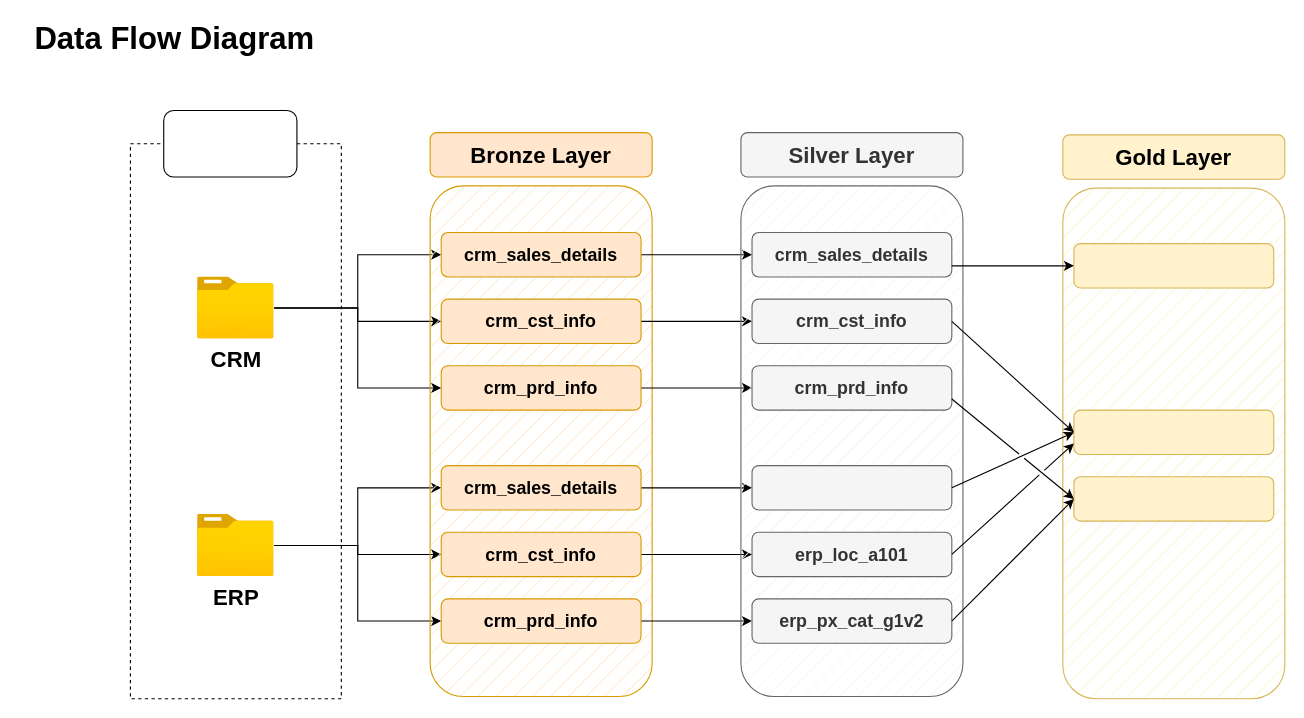
This 1304x718 diagram has some shape labels left out. Each missing label, with the box of its shape:
dim_customers: (1073, 409, 1274, 455)
dim_products: (1073, 476, 1274, 521)
erp_cust_az12: (751, 465, 952, 510)
face_sales: (1073, 243, 1274, 288)
Sources: (163, 109, 297, 177)
